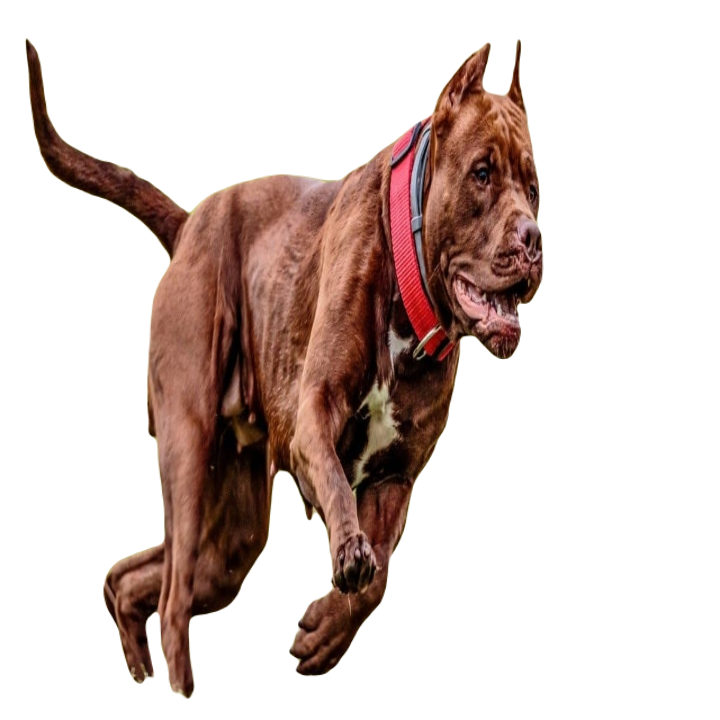Dog: (19, 39, 547, 696)
